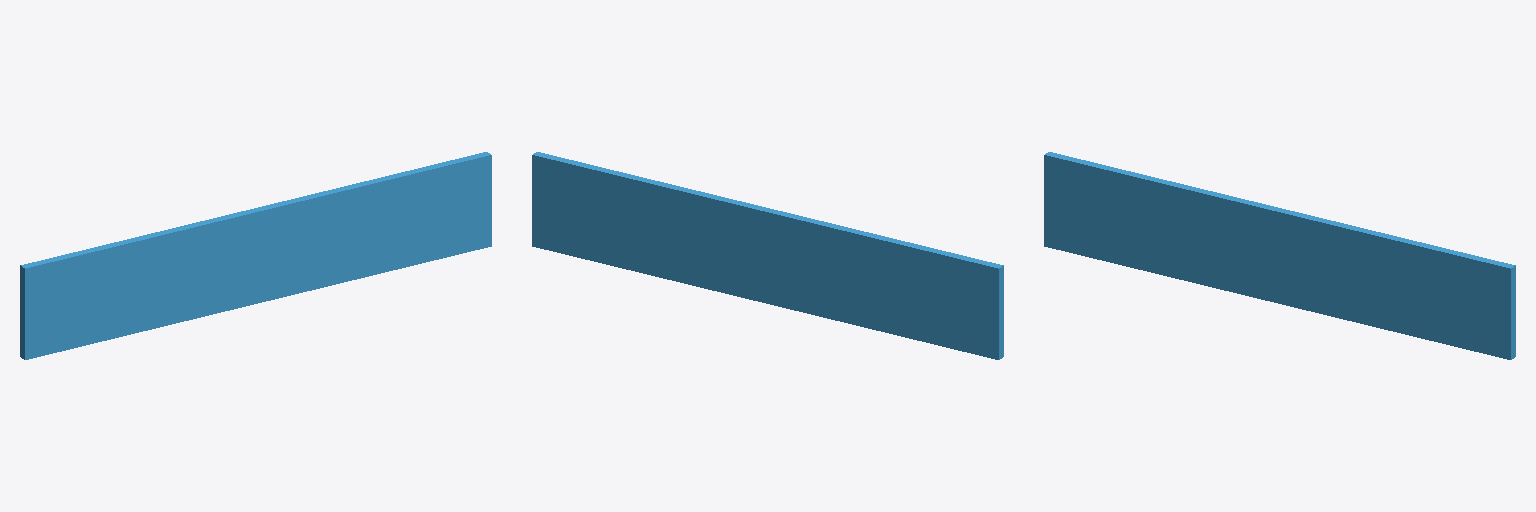
URDF robot description (hemis_70):
<?xml version="1.0" encoding="utf-8"?>    
    <robot name="hemis_70">
        <link name="hemis_70">    
            <fem>
                <origin rpy="0.0 0.0 0.0" xyz="0 0 0" />
                <density value="100" />
                <youngs value="4544"/>
                <poissons value="0.3" />
                <damping value="0.0" />
                <attachDistance value="0.04" />
                <tetmesh filename="[local-path]/sim_data/Custom/Custom_mesh/multi_hemis_5kPa/hemis_70.tet" />
                <scale value="0.5"/>
            </fem>
        </link>

        <link name="fix_frame">
            <visual>
                <origin xyz="0 -10.11269708212975 0.05634854106487565"/>              
                <geometry>
                    <box size="0.3 0.005 0.05634854106487565"/>
                </geometry>
            </visual>
            <collision>
                <origin xyz="0 -0.1126970821297513 0.05634854106487565"/>              
                <geometry>
                    <box size="0.3 0.005 0.05634854106487565"/>
                </geometry>
            </collision>
            <inertial>
                <mass value="500000"/>
                <inertia ixx="0.05" ixy="0.0" ixz="0.0" iyy="0.05" iyz="0.0" izz="0.05"/>
            </inertial>
        </link>
        
        <joint name = "attach" type = "fixed">
            <origin xyz = "0.0 0.0 0.0" rpy = "0 0 0"/>
            <parent link ="hemis_70"/>
            <child link = "fix_frame"/>
        </joint>  




    </robot>
    

--- Facts derived from the render (not from the file) ---
The picture shows the robot from 3 angles, left to right: view 1: azimuth 30°, elevation 25°; view 2: azimuth 150°, elevation 25°; view 3: azimuth 330°, elevation 25°; orthographic projection.
Model hemis_70 with 2 links and 1 joints (1 fixed), rooted at hemis_70, posed every joint at zero.
Visible links, largest first — view 1: fix_frame; view 2: fix_frame; view 3: fix_frame.
Link boxes in pixels (x1,y1,x2,y2): fix_frame: (20, 152, 491, 359); fix_frame: (532, 152, 1003, 359); fix_frame: (1044, 152, 1515, 359).
Bounding box of the posed robot: 0.3 × 0.005 × 0.0563 m (x, y, z).
Geometry: primitives only (box / cylinder / sphere), no mesh files.
